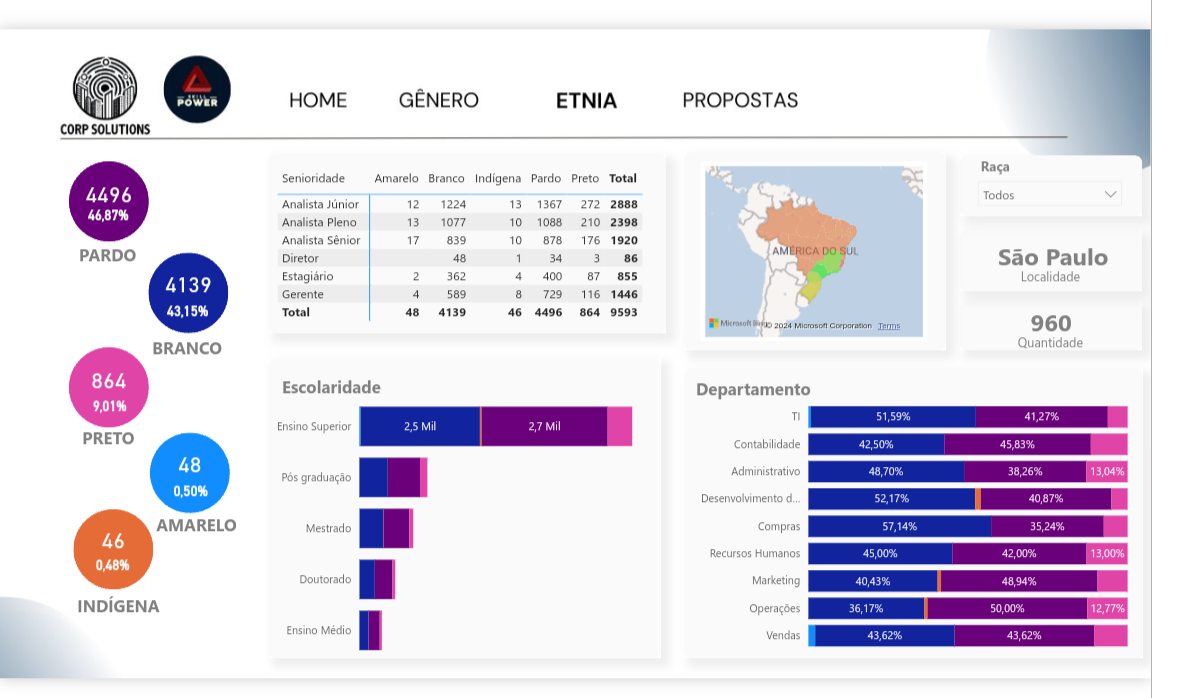

The dashboard page shown, as its layout file describes it:
{"tool":"powerbi","page":{"name":"Etnia","canvas":[1280,720],"ordinal":3},"visuals":[{"type":"shape","box":[760,377.1,510,322.9],"z":0},{"type":"shape","box":[1067,302.3,202.7,55.5],"z":1000},{"type":"shape","box":[1067.3,222,202.7,70],"z":2000},{"type":"shape","box":[1067.3,140.9,202.7,68.2],"z":3000},{"type":"shape","box":[759.9,136.2,291.4,220],"z":4000},{"type":"shape","box":[298.6,137.7,442,200],"z":5000},{"type":"textbox","box":[72.5,233.7,96,48],"z":6000},{"type":"shape","box":[76.8,147.2,88.7,89.1],"z":7000},{"type":"card","fields":{"Values":["Funcionarios.%pardo"]},"box":[84.2,192.5,72.5,32.5],"z":8000},{"type":"card","fields":{"Values":["Funcionarios.pardo_total"]},"box":[87.2,166,67.8,31.7],"z":9000},{"type":"textbox","box":[160.5,337.7,96,40],"z":10000},{"type":"shape","box":[164.5,248.5,88.7,89.1],"z":11000},{"type":"card","fields":{"Values":["Funcionarios.%branco"]},"box":[172.5,299.2,72.5,31.7],"z":12000},{"type":"card","fields":{"Values":["Funcionarios.branco_total"]},"box":[174.9,267.4,67.8,31.7],"z":13000},{"type":"textbox","box":[72,624,120,40],"z":14000},{"type":"shape","box":[81.2,533,88.7,89.1],"z":15000},{"type":"card","fields":{"Values":["Funcionarios.%indio"]},"box":[88.6,580.5,72.5,32.5],"z":16000},{"type":"card","fields":{"Values":["Funcionarios.indigena_total"]},"box":[91.7,551.8,67.8,31.7],"z":17000},{"type":"textbox","box":[70.5,437.2,100.8,45.4],"z":18000},{"type":"shape","box":[76.6,354.3,88.7,89.1],"z":19000},{"type":"card","fields":{"Values":["Funcionarios.%preto"]},"box":[84.5,404.3,72.5,32.5],"z":20000},{"type":"card","fields":{"Values":["Funcionarios.preto_total"]},"box":[87,373.1,67.8,31.7],"z":21000},{"type":"textbox","box":[158.4,533.8,120,48],"z":22000},{"type":"shape","box":[167.2,448,88.7,89.1],"z":23000},{"type":"card","fields":{"Values":["Funcionarios.%amarelo"]},"box":[174.7,498.9,72.5,32.5],"z":24000},{"type":"card","fields":{"Values":["Funcionarios.amarelo_total"]},"box":[177.6,466.9,67.8,31.7],"z":25000},{"type":"slicer","fields":{"Values":["Funcionarios.Raça"]},"box":[1078.2,137.3,180,61.8],"z":26000},{"type":"pivotTable","fields":{"Rows":["Funcionarios.Senioridade"],"Columns":["Funcionarios.Raça"],"Values":["CountNonNull(Funcionarios.Raça)"]},"box":[304.3,149.6,430.4,192.8],"z":27000},{"type":"filledMap","title":"Funcionário por Estado","fields":{"Category":["Funcionarios.Estado"]},"box":[779.5,146.2,252.2,200],"z":28000},{"type":"shape","box":[298.6,365.7,435.7,334.3],"z":29000},{"type":"card","fields":{"Values":["Funcionarios.Estadosv"]},"box":[1095.5,304.5,145.5,40.9],"z":30000},{"type":"card","fields":{"Values":["Funcionarios.Estados"]},"box":[1075.5,226.4,190,50.9],"z":31000},{"type":"textbox","box":[1095.5,260.9,144.5,30.9],"z":32000},{"type":"textbox","box":[1095.5,333.6,144.5,30.9],"z":33000},{"type":"hundredPercentStackedBarChart","fields":{"Category":["Departamentos.nome"],"Y":["CountNonNull(Trabalha em.id_funcionario)"],"Series":["Funcionarios.Raça"]},"box":[760,394.3,498.6,310],"z":34000},{"type":"textbox","box":[768.6,381.4,158.6,41.4],"z":35000},{"type":"barChart","title":"Etnia por Escolaridade","fields":{"Category":["Funcionarios.Formação"],"Y":["CountNonNull(Funcionarios.Formação)"],"Series":["Funcionarios.Raça"]},"box":[295.7,382.9,424.3,335.7],"z":36000},{"type":"textbox","box":[308.6,380,158.6,41.4],"z":37000},{"type":"actionButton","box":[52.5,13.8,218.8,106.2],"z":38000},{"type":"actionButton","box":[304.3,60,100,40],"z":39000},{"type":"actionButton","box":[436.4,60,107.3,40],"z":40000},{"type":"actionButton","box":[741.2,60,107.5,40],"z":41000}]}

Visuals, with their boxes on the page's 1280x720 design canvas (x1, y1, x2, y2). These are canvas units, not pixel positions in the 1200x698 screenshot, which may show the page scaled, cropped or inside an application window:
shape: bbox=[760, 377, 1270, 700]
shape: bbox=[1067, 302, 1270, 358]
shape: bbox=[1067, 222, 1270, 292]
shape: bbox=[1067, 141, 1270, 209]
shape: bbox=[760, 136, 1051, 356]
shape: bbox=[299, 138, 741, 338]
textbox: bbox=[72, 234, 168, 282]
shape: bbox=[77, 147, 166, 236]
card - Funcionarios.%pardo: bbox=[84, 192, 157, 225]
card - Funcionarios.pardo_total: bbox=[87, 166, 155, 198]
textbox: bbox=[160, 338, 256, 378]
shape: bbox=[164, 248, 253, 338]
card - Funcionarios.%branco: bbox=[172, 299, 245, 331]
card - Funcionarios.branco_total: bbox=[175, 267, 243, 299]
textbox: bbox=[72, 624, 192, 664]
shape: bbox=[81, 533, 170, 622]
card - Funcionarios.%indio: bbox=[89, 580, 161, 613]
card - Funcionarios.indigena_total: bbox=[92, 552, 160, 584]
textbox: bbox=[70, 437, 171, 483]
shape: bbox=[77, 354, 165, 443]
card - Funcionarios.%preto: bbox=[84, 404, 157, 437]
card - Funcionarios.preto_total: bbox=[87, 373, 155, 405]
textbox: bbox=[158, 534, 278, 582]
shape: bbox=[167, 448, 256, 537]
card - Funcionarios.%amarelo: bbox=[175, 499, 247, 531]
card - Funcionarios.amarelo_total: bbox=[178, 467, 245, 499]
slicer - Funcionarios.Raça: bbox=[1078, 137, 1258, 199]
pivotTable - Funcionarios.Senioridade x Funcionarios.Raça: bbox=[304, 150, 735, 342]
"Funcionário por Estado" filledMap: bbox=[780, 146, 1032, 346]
shape: bbox=[299, 366, 734, 700]
card - Funcionarios.Estadosv: bbox=[1096, 304, 1241, 345]
card - Funcionarios.Estados: bbox=[1076, 226, 1266, 277]
textbox: bbox=[1096, 261, 1240, 292]
textbox: bbox=[1096, 334, 1240, 364]
hundredPercentStackedBarChart - Departamentos.nome x CountNonNull(Trabalha em.id_funcionario): bbox=[760, 394, 1259, 704]
textbox: bbox=[769, 381, 927, 423]
"Etnia por Escolaridade" barChart: bbox=[296, 383, 720, 719]
textbox: bbox=[309, 380, 467, 421]
actionButton: bbox=[52, 14, 271, 120]
actionButton: bbox=[304, 60, 404, 100]
actionButton: bbox=[436, 60, 544, 100]
actionButton: bbox=[741, 60, 849, 100]
